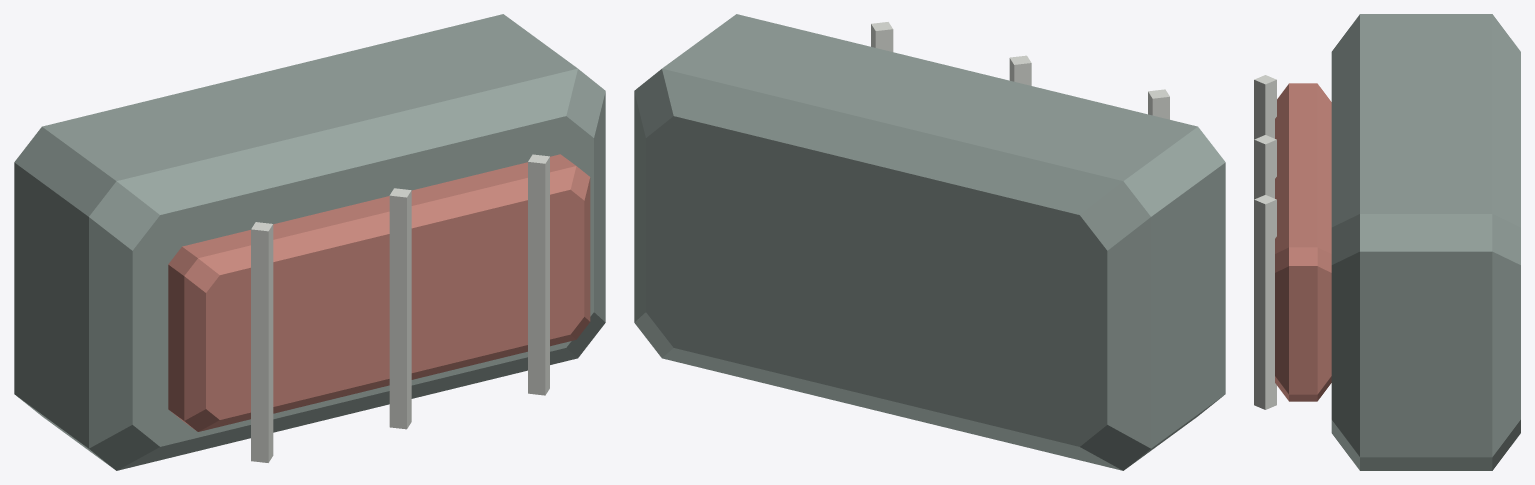
Rendered from lab_emergency_light.glb.
3 views of the same model, side by side, from view 1: azimuth 30°, elevation 25°; view 2: azimuth 150°, elevation 25°; view 3: azimuth 270°, elevation 25° (orthographic). The views are drawn at different scales.
Visible parts, largest first — view 1: lab_emergency_light, Lens; view 2: lab_emergency_light; view 3: lab_emergency_light, Lens.
Part boxes in pixels (x1,y1,x2,y2): lab_emergency_light: [14, 14, 605, 470]; Lens: [168, 154, 590, 431]; lab_emergency_light: [634, 14, 1225, 470]; lab_emergency_light: [1254, 14, 1520, 470]; Lens: [1275, 83, 1331, 401].
Bounding box in the file's own units: 0.56 × 0.3 × 0.282.
